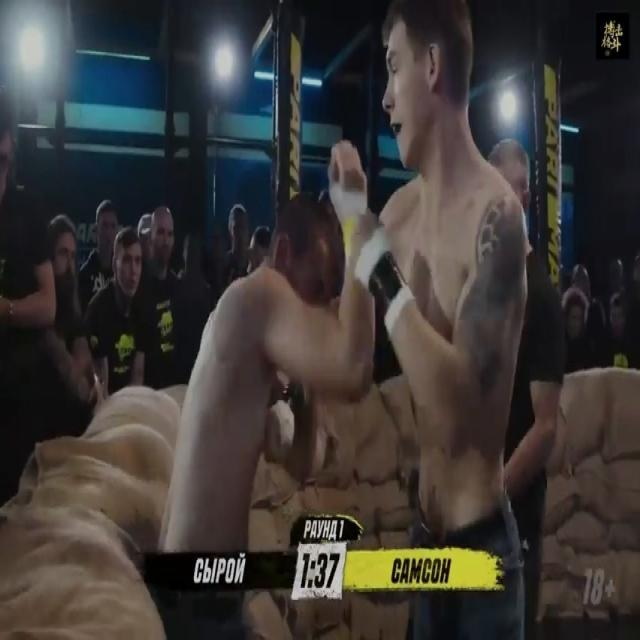fight: (144, 0, 536, 640)
non-fight: (486, 131, 567, 640), (0, 76, 60, 500), (39, 205, 104, 438), (133, 204, 195, 388), (82, 223, 146, 396), (212, 196, 252, 303)
